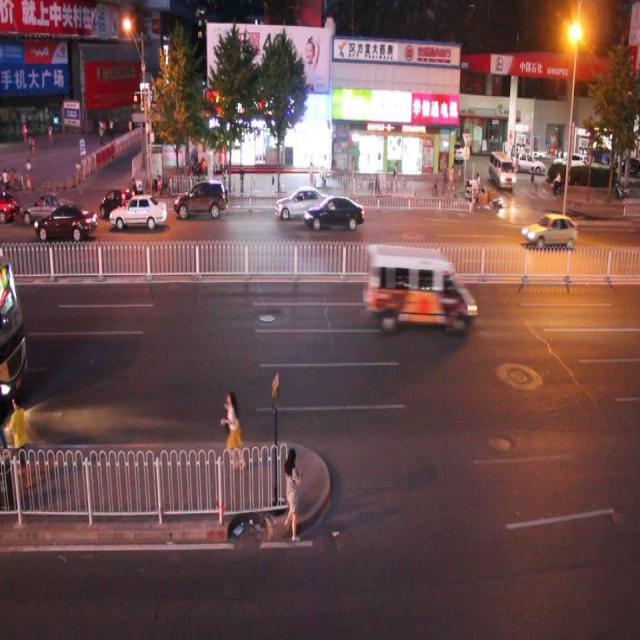car: (34, 201, 99, 243), (304, 194, 366, 232), (520, 210, 578, 250), (110, 193, 168, 232), (174, 178, 228, 219), (274, 183, 329, 222), (22, 190, 74, 228), (101, 180, 145, 223)
truck: (363, 239, 477, 332)
